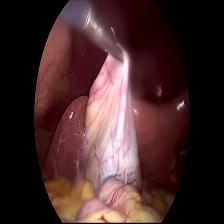Grasper: (103, 18, 132, 74)
